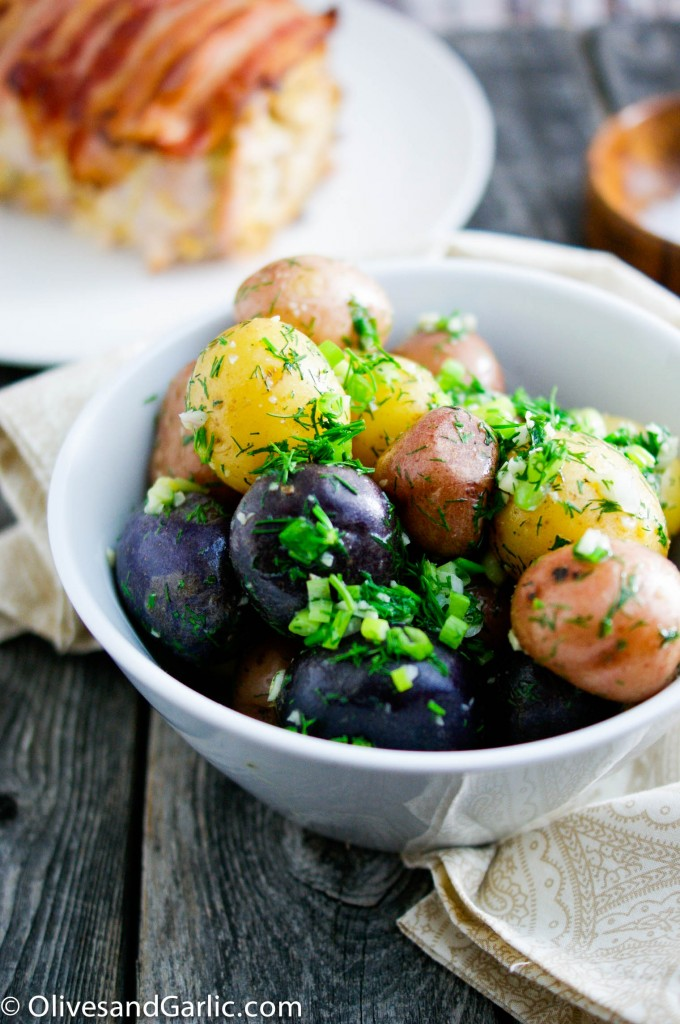boiled potatoes: (180, 261, 509, 535), (481, 411, 680, 692)
